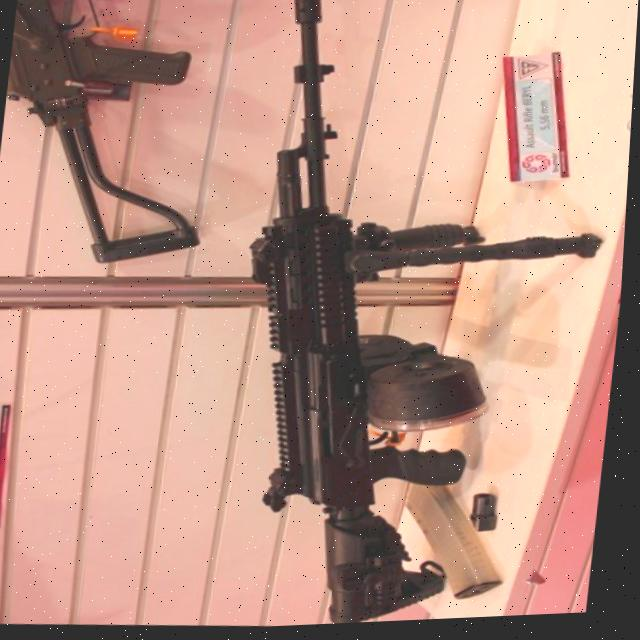firearm: (211, 0, 633, 632), (0, 0, 230, 276)
